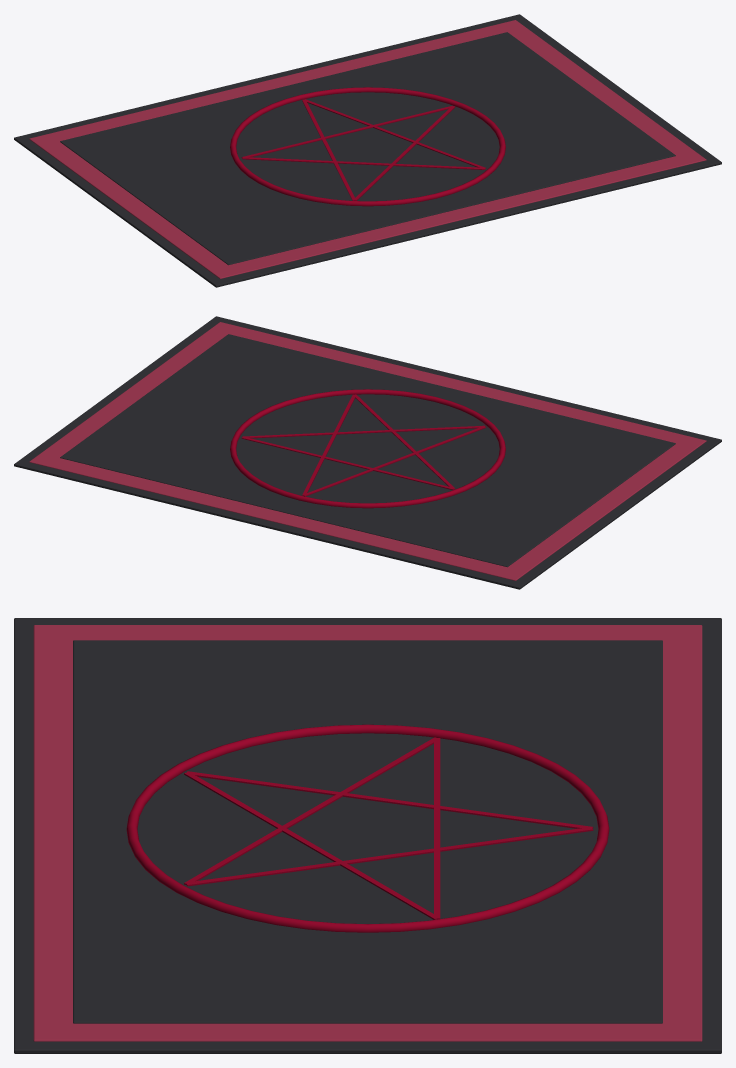
File: rug_pentagram_red.glb
3 views of the same model, one above another, from view 1: azimuth 30°, elevation 25°; view 2: azimuth 150°, elevation 25°; view 3: azimuth 270°, elevation 25° (orthographic). The views are drawn at different scales.
Visible parts, largest first — view 1: GD_rug_pentagram_red__m0, GD_rug_pentagram_red__m1, GD_rug_pentagram_red__m2; view 2: GD_rug_pentagram_red__m0, GD_rug_pentagram_red__m1, GD_rug_pentagram_red__m2; view 3: GD_rug_pentagram_red__m0, GD_rug_pentagram_red__m1, GD_rug_pentagram_red__m2.
Part boxes in pixels (x1,y1,x2,y2): GD_rug_pentagram_red__m0: (14,14,721,287); GD_rug_pentagram_red__m1: (29,20,706,278); GD_rug_pentagram_red__m2: (230,87,505,206); GD_rug_pentagram_red__m0: (14,316,721,589); GD_rug_pentagram_red__m1: (29,322,706,580); GD_rug_pentagram_red__m2: (230,389,505,508); GD_rug_pentagram_red__m0: (14,618,721,1053); GD_rug_pentagram_red__m1: (33,625,702,1041); GD_rug_pentagram_red__m2: (126,724,609,932).
Size of the model in its own units: 2.6 by 0.038 by 1.8.
